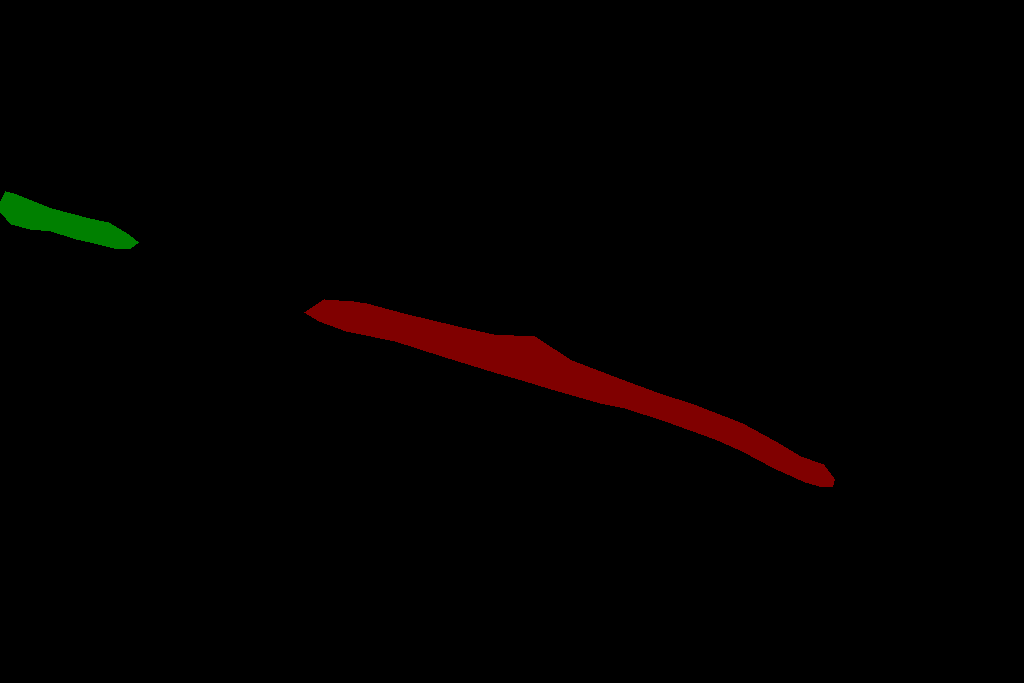fire: (304, 299, 834, 486), (0, 191, 138, 248)
